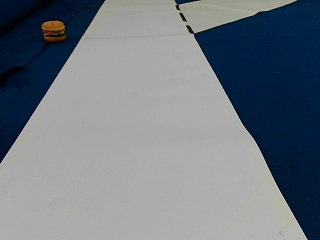burger: (41, 18, 66, 41)
